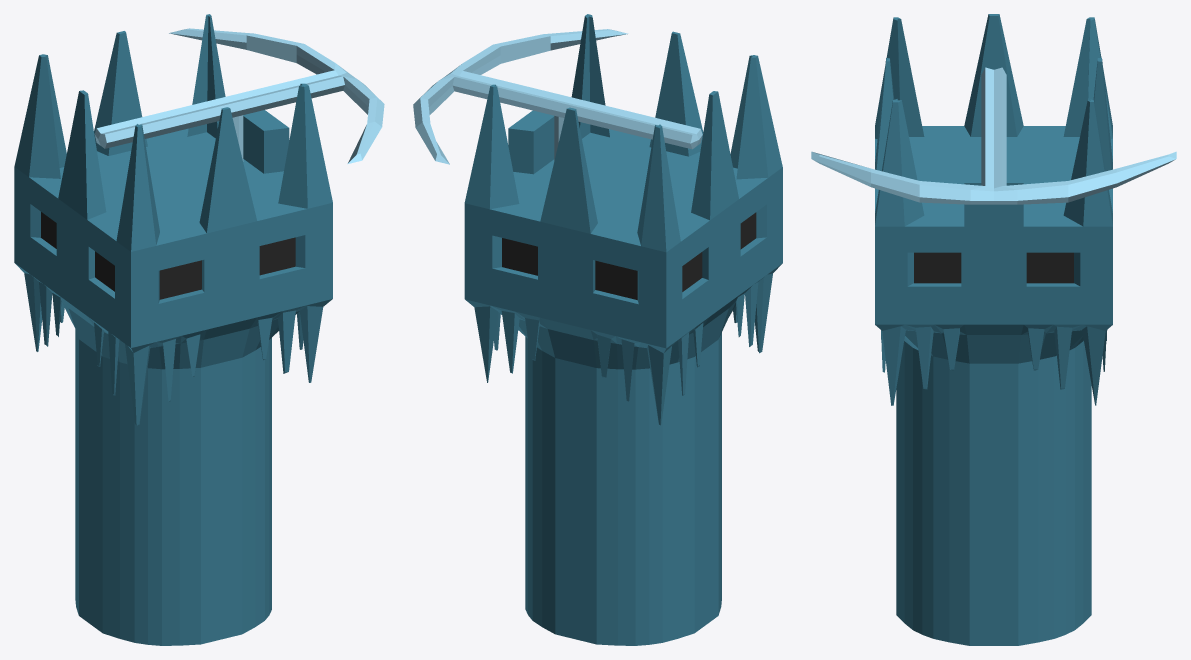
Rendered from IceTower.fbx.
3 views of the same model, side by side, from view 1: azimuth 30°, elevation 25°; view 2: azimuth 150°, elevation 25°; view 3: azimuth 270°, elevation 25° (orthographic). The views are drawn at different scales.
Visible parts, largest first — view 1: Cube; view 2: Cube; view 3: Cube.
Part boxes in pixels (left/top/right/bottom): Cube: left=14, top=14, right=384, bottom=645; Cube: left=413, top=14, right=782, bottom=645; Cube: left=811, top=14, right=1176, bottom=645.
Size of the model in its own units: 4.58 by 5.05 by 8.31.
